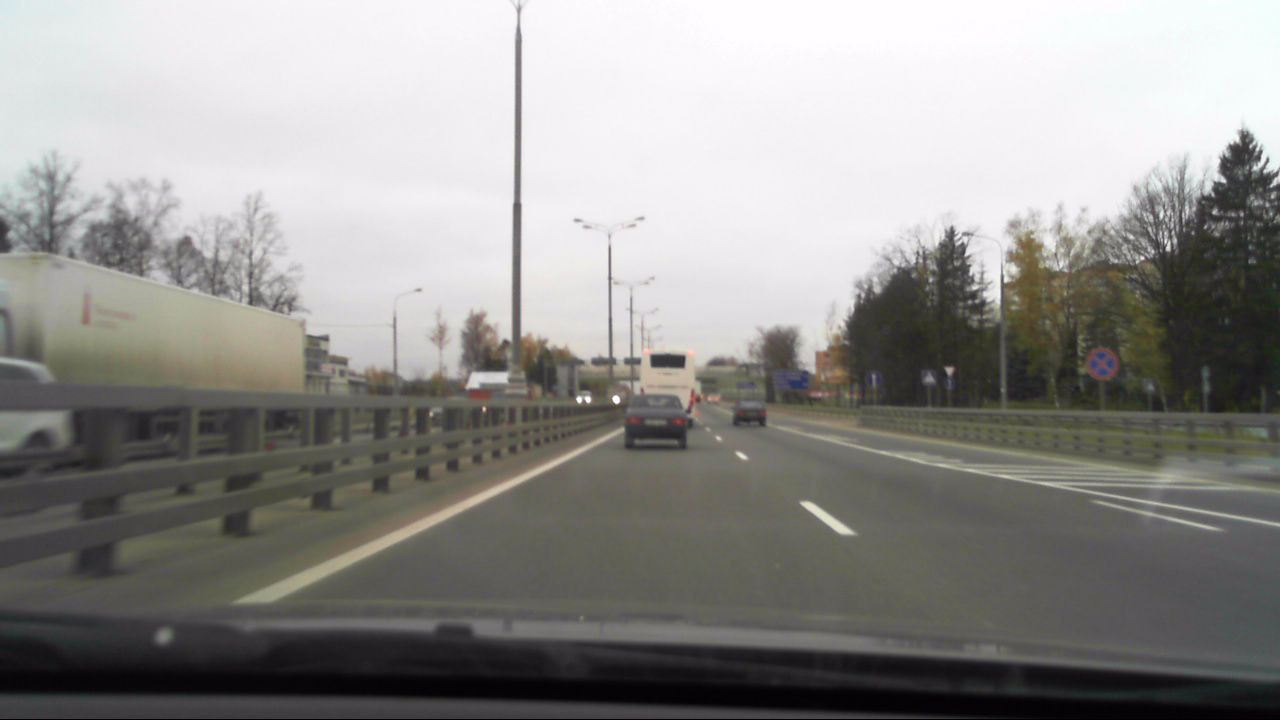No Parking: (1086, 348, 1120, 382)
